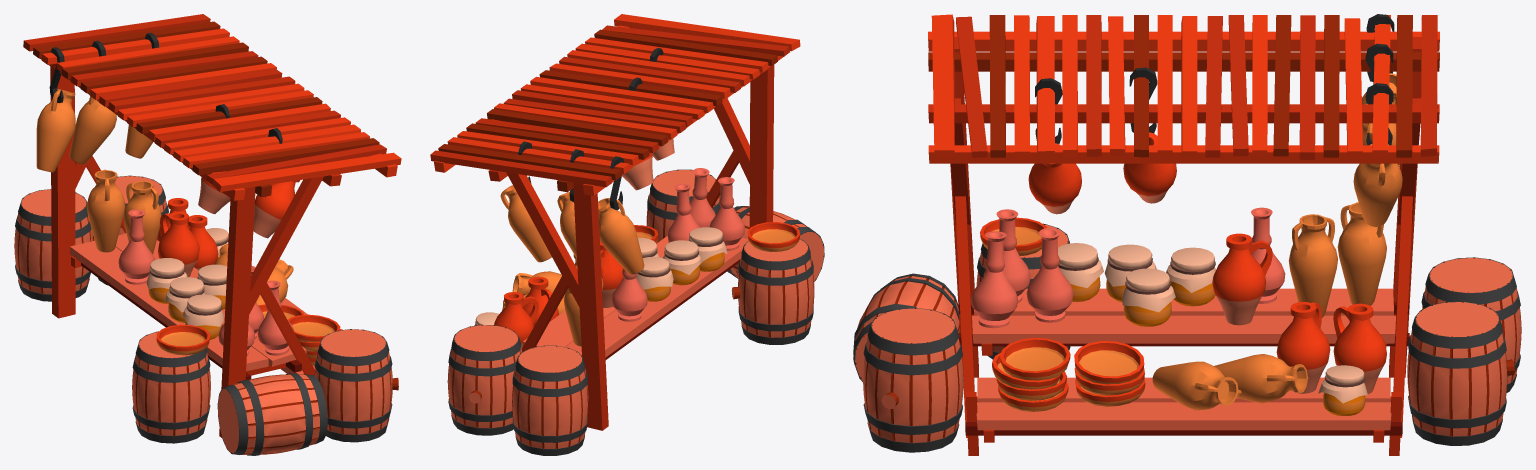
Rendered from marketstall1.glb.
The picture shows the model from 3 angles, left to right: view 1: azimuth 30°, elevation 25°; view 2: azimuth 150°, elevation 25°; view 3: azimuth 270°, elevation 25°; orthographic projection. The views are drawn at different scales.
Visible parts, largest first — view 1: MarketStall1; view 2: MarketStall1; view 3: MarketStall1.
Boxes of the visible parts, <box> form: MarketStall1: <box>14,14,401,455</box>; MarketStall1: <box>430,14,824,455</box>; MarketStall1: <box>853,14,1521,455</box>.
Size of what is drawn, in the model's own units: 1.28 by 1.46 by 2.54.
Materials: 1 (1 with a texture image).
